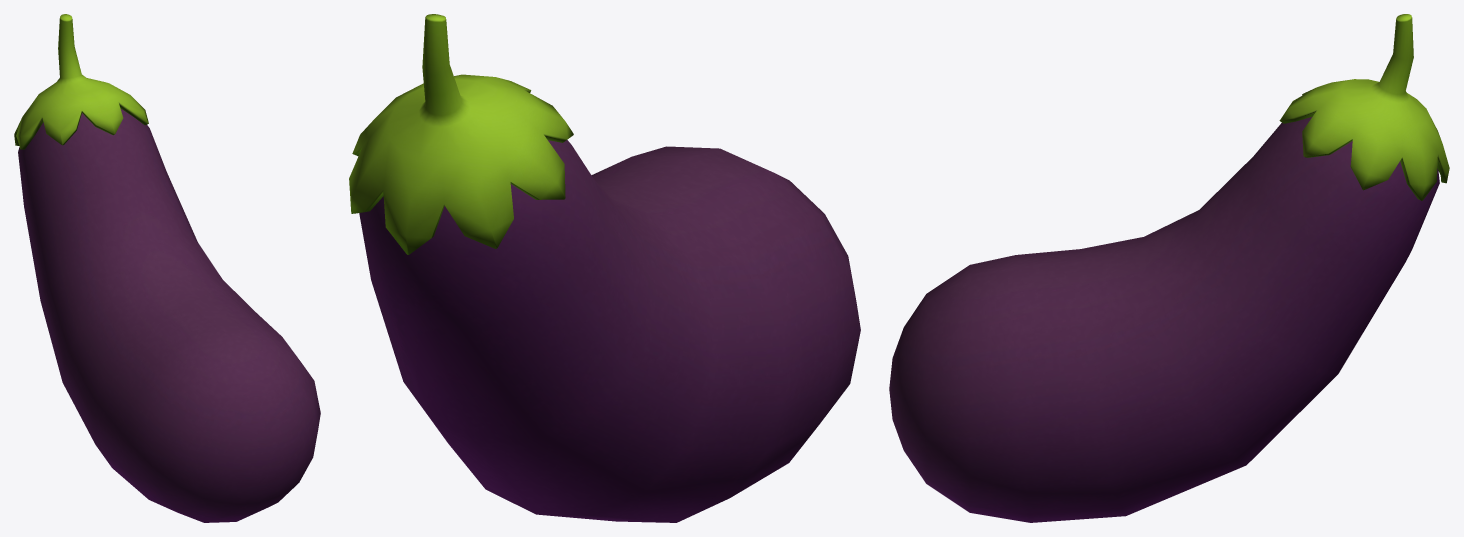
Rendered from Eggplant.fbx.
3 views of the same model, side by side, from view 1: azimuth 30°, elevation 25°; view 2: azimuth 150°, elevation 25°; view 3: azimuth 270°, elevation 25° (orthographic). The views are drawn at different scales.
Parts seen in each view (by area): view 1: Eggplant; view 2: Eggplant; view 3: Eggplant.
Boxes of the visible parts, box(x1,y1,x2,y2) form: Eggplant: box(14, 14, 320, 522); Eggplant: box(349, 14, 860, 522); Eggplant: box(889, 14, 1449, 522).
Bounding box in the file's own units: 15.43 × 31.03 × 31.9.
